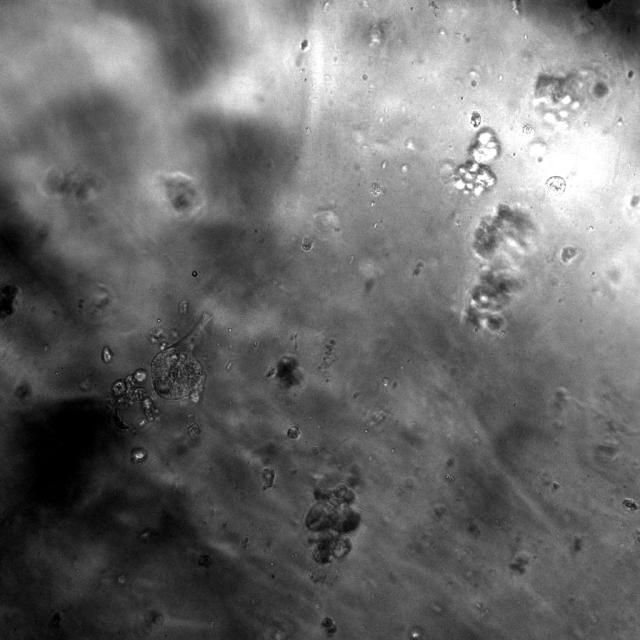organoid: (462, 204, 533, 334), (151, 311, 212, 401), (532, 69, 609, 130), (304, 483, 361, 564), (451, 127, 501, 195), (108, 369, 158, 433), (275, 356, 302, 388), (0, 280, 19, 319), (546, 176, 565, 193), (262, 466, 275, 490), (321, 616, 337, 635), (561, 245, 577, 262), (622, 498, 639, 510), (286, 425, 300, 439), (188, 423, 201, 438), (471, 111, 481, 128), (102, 346, 112, 363)
